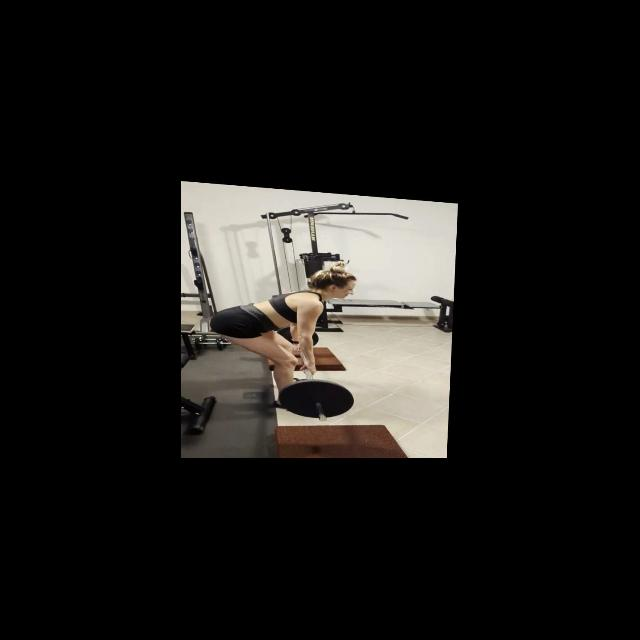barbell: (279, 373, 360, 422)
